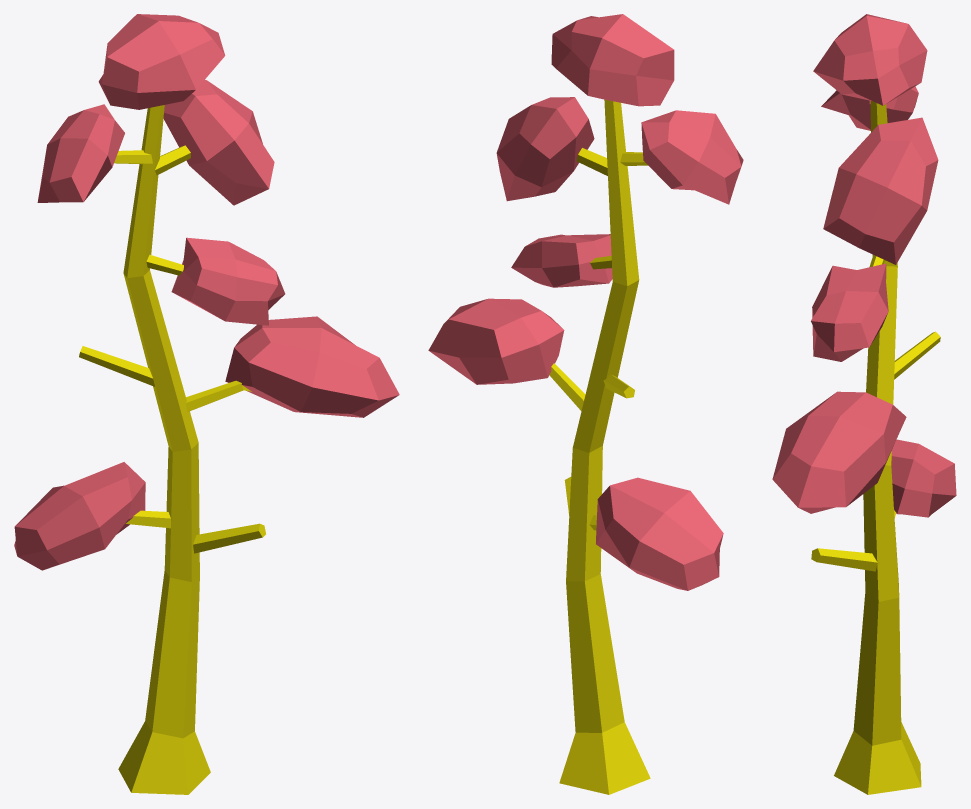
The model's file is tree-japan.fbx.
3 renders of one model, left to right at view 1: azimuth 30°, elevation 25°; view 2: azimuth 150°, elevation 25°; view 3: azimuth 270°, elevation 25°, orthographic.
Parts seen in each view (by area): view 1: tree-japan; view 2: tree-japan; view 3: tree-japan.
Part boxes in pixels (left/top/right/bottom): tree-japan: left=14, top=14, right=399, bottom=794; tree-japan: left=428, top=14, right=743, bottom=794; tree-japan: left=772, top=14, right=956, bottom=794.
Bounding box in the file's own units: 4.62 × 10.35 × 2.29.
